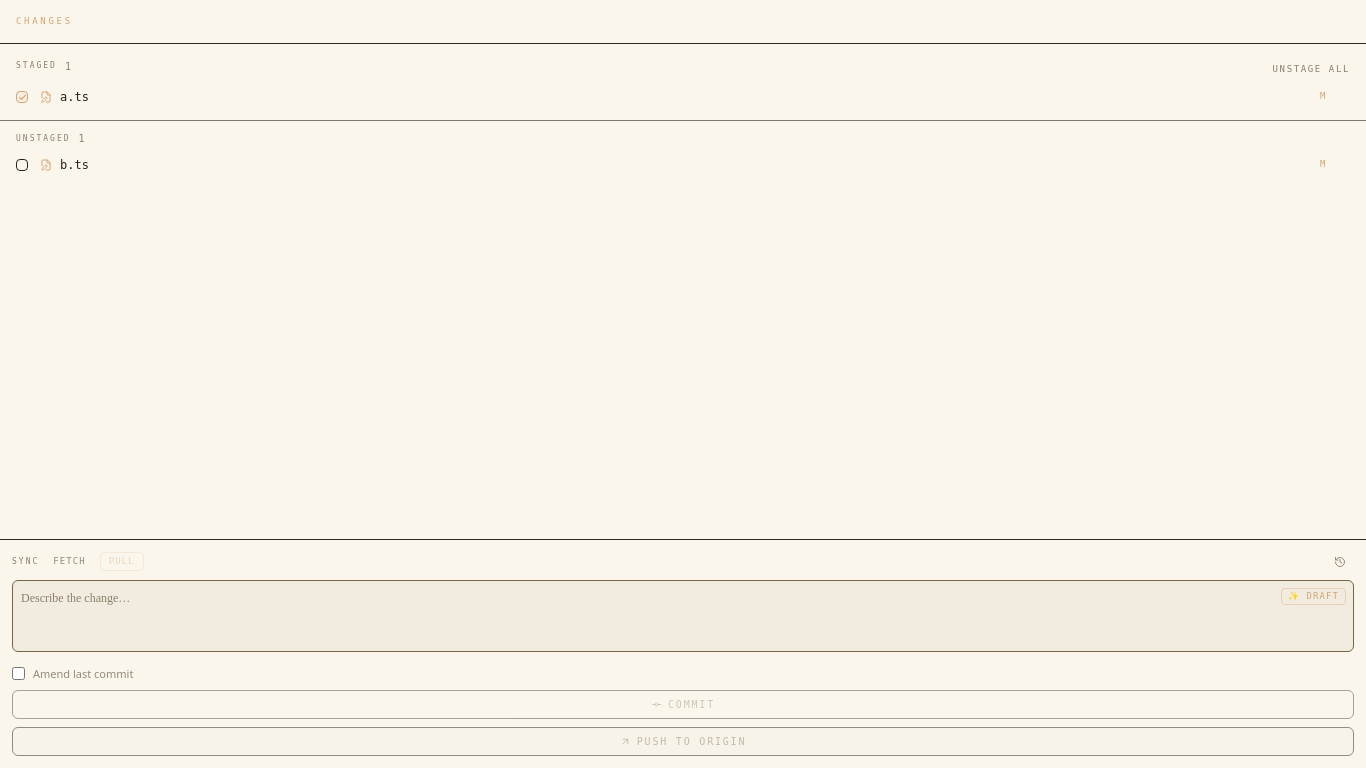
Test: ChangesPanel G4 › Draft fills the message from the staged diff via aiComplete
This screenshot has width=1366, height=768.
Expected: the text "a.ts" is shown, [60,90,89,104]
Click the button "✨ Draft": click(1313, 596) [1281,588,1346,605]
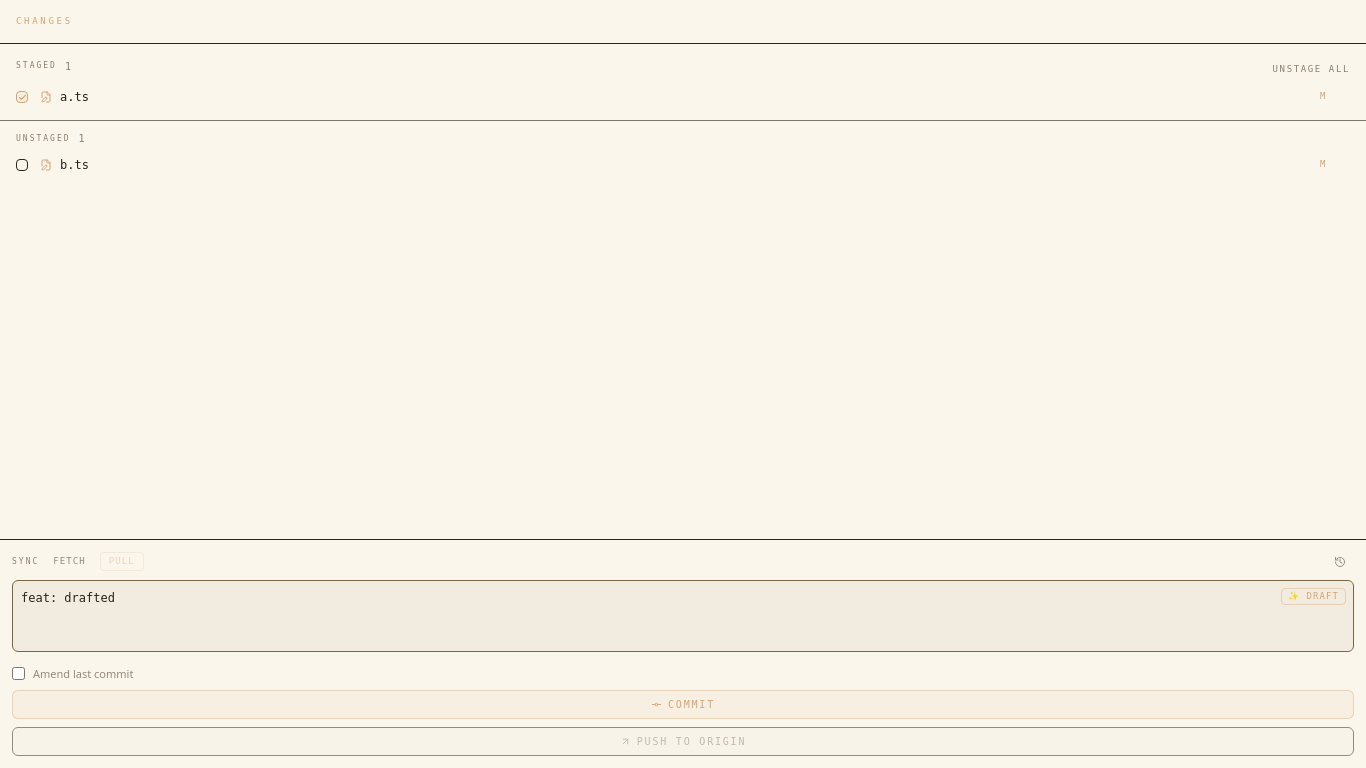
Expected: the text box with placeholder "Describe the change…" holds "feat: drafted", [12,580,1354,652]
